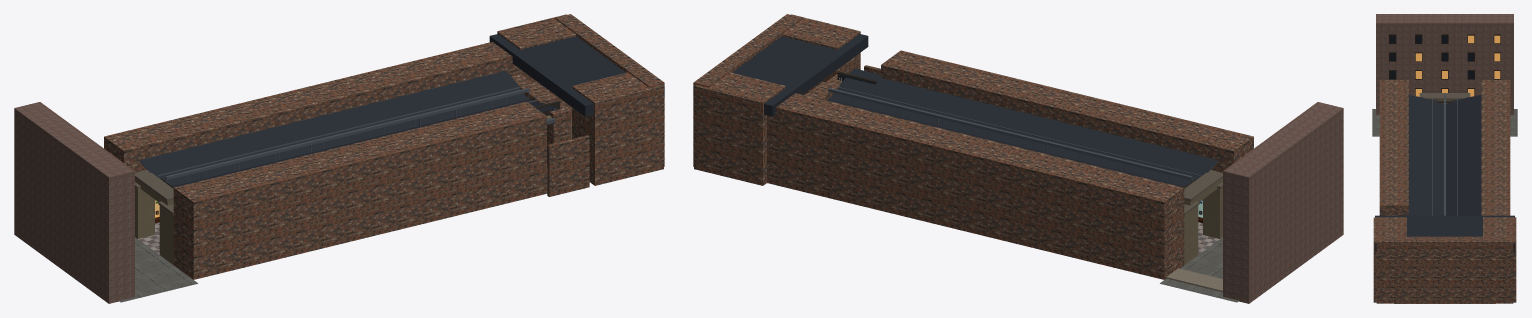
File: market-row.glb
3 renders of one model, left to right at view 1: azimuth 30°, elevation 25°; view 2: azimuth 150°, elevation 25°; view 3: azimuth 270°, elevation 25°, orthographic. The views are drawn at different scales.
Visible parts, largest first — view 1: bake:brick_wall_001:brick, bake:red_brick_03:brick_far, bake:plain:panel, bake:plain:steel, bake:asphalt_02:road, bake:concrete_wall_007:stone, bake:plain:cornice; view 2: bake:brick_wall_001:brick, bake:red_brick_03:brick_far, bake:plain:panel, bake:plain:steel, bake:concrete_wall_007:stone, bake:asphalt_02:road, bake:plain:cornice, bake:concrete_pavement:pavement; view 3: bake:brick_wall_001:brick, bake:plain:panel, bake:red_brick_03:brick_far, bake:plain:reveal, bake:plain:pane_lit, bake:plain:steel, bake:plain:pane_dark, bake:asphalt_02:road, bake:plain:cornice.
Boxes of the visible parts, bbox=[...] form: bake:brick_wall_001:brick: bbox=[104, 14, 664, 279]; bake:red_brick_03:brick_far: bbox=[14, 102, 134, 303]; bake:plain:panel: bbox=[139, 34, 664, 187]; bake:plain:steel: bbox=[140, 87, 555, 183]; bake:asphalt_02:road: bbox=[119, 237, 197, 302]; bake:concrete_wall_007:stone: bbox=[135, 115, 551, 264]; bake:plain:cornice: bbox=[135, 170, 174, 215]; bake:brick_wall_001:brick: bbox=[693, 14, 1253, 279]; bake:red_brick_03:brick_far: bbox=[1223, 102, 1343, 303]; bake:plain:panel: bbox=[693, 34, 1218, 187]; bake:plain:steel: bbox=[828, 87, 1217, 183]; bake:concrete_wall_007:stone: bbox=[1184, 178, 1222, 264]; bake:asphalt_02:road: bbox=[1160, 237, 1238, 302]; bake:plain:cornice: bbox=[1183, 170, 1222, 215]; bake:concrete_pavement:pavement: bbox=[1166, 268, 1222, 292]; bake:brick_wall_001:brick: bbox=[1373, 80, 1516, 303]; bake:plain:panel: bbox=[1375, 95, 1514, 251]; bake:red_brick_03:brick_far: bbox=[1376, 14, 1513, 114]; bake:plain:reveal: bbox=[1389, 34, 1500, 95]; bake:plain:pane_lit: bbox=[1415, 35, 1500, 96]; bake:plain:steel: bbox=[1432, 94, 1457, 215]; bake:plain:pane_dark: bbox=[1389, 35, 1474, 78]; bake:asphalt_02:road: bbox=[1372, 109, 1517, 136]; bake:plain:cornice: bbox=[1419, 93, 1470, 99].
Size of the model in its own units: 64.5 by 14 by 20.
155 materials, 41 textured.
